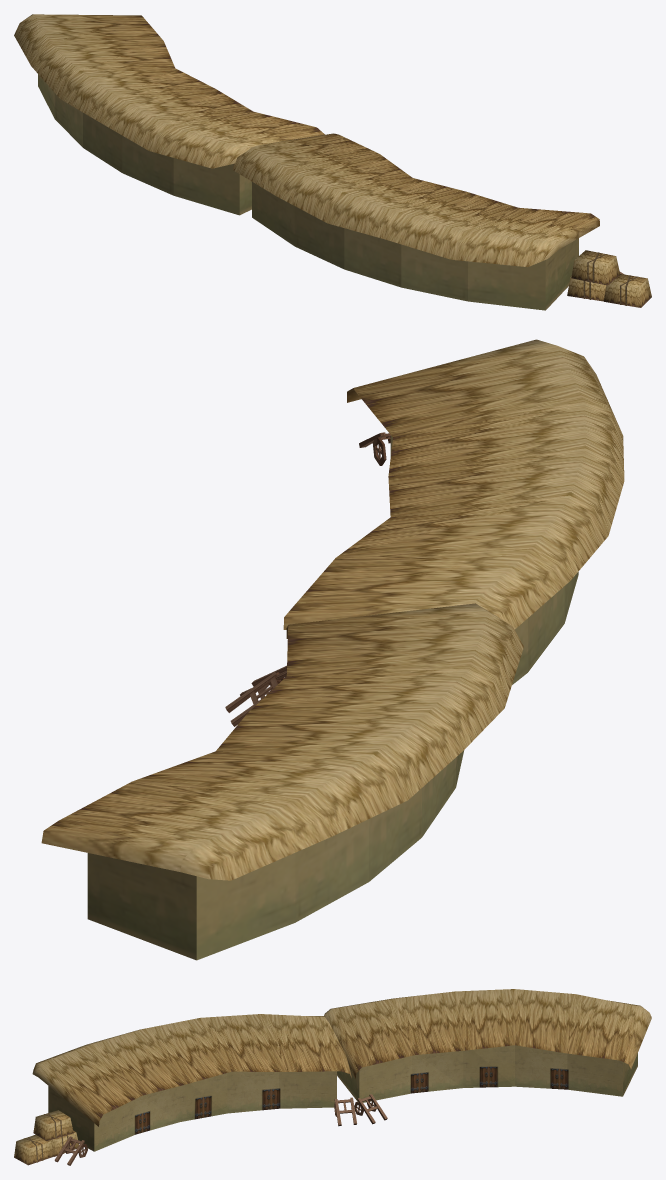
The model's file is Area_13_24.fbx.
The picture shows the model from 3 angles, top to bottom: view 1: azimuth 30°, elevation 25°; view 2: azimuth 150°, elevation 25°; view 3: azimuth 270°, elevation 25°; orthographic projection. The views are drawn at different scales.
Visible parts, largest first — view 1: Area_13_24; view 2: Area_13_24; view 3: Area_13_24.
Part boxes in pixels (x1,y1,x2,y2): Area_13_24: [14, 14, 651, 310]; Area_13_24: [41, 339, 624, 960]; Area_13_24: [14, 989, 651, 1165].
Bounding box in the file's own units: 2122 × 539 × 4751.
